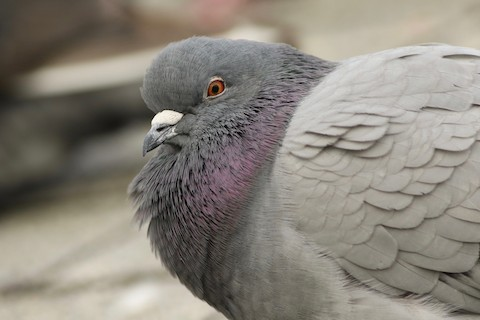pigeon: (125, 23, 477, 320)
